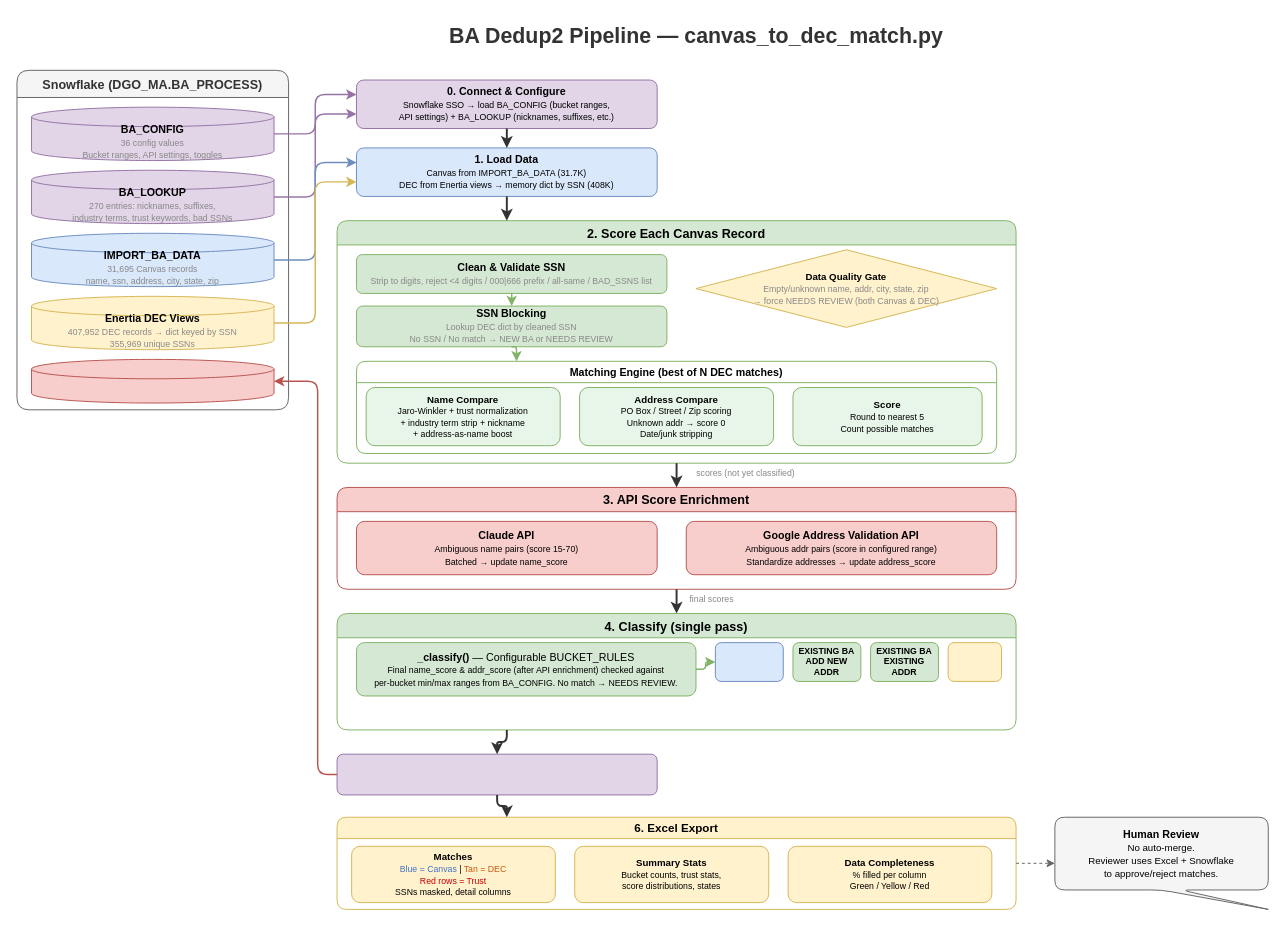
This 1285x926 diagram has some shape labels left out. Each missing label, with the centre of its shape:
"5. Write Results → Snowflake IMPORT_MERGE_MATCHES (DROP + recreate)" belongs at (x=496, y=774).
"IMPORT_MERGE_MATCHES 31,695 result rows (output)" belongs at (x=152, y=380).
"NEEDS REVIEW" belongs at (x=974, y=661).
"NEW BA AND NEW ADDRESS" belongs at (x=748, y=661).
